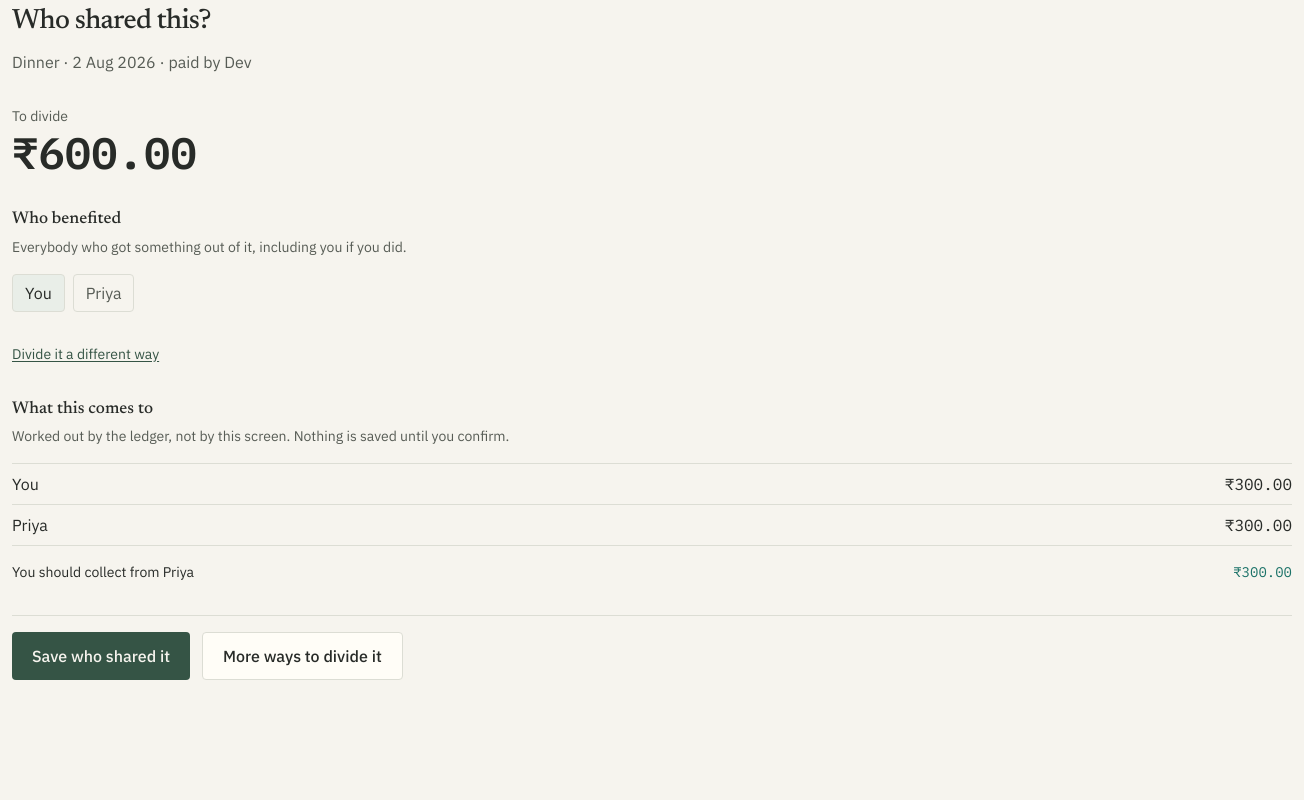
Test: saying who shared an expense › keeps the advanced methods behind a disclosure
The image size is (1304, 800).
Expected: the heading "Who shared this?" is shown, top-left (12, 7), bottom-right (211, 35)
Expected: the text "Exact amounts" is not shown
Click the button "Divide it a different way": (86, 354) top-left (12, 344), bottom-right (159, 364)
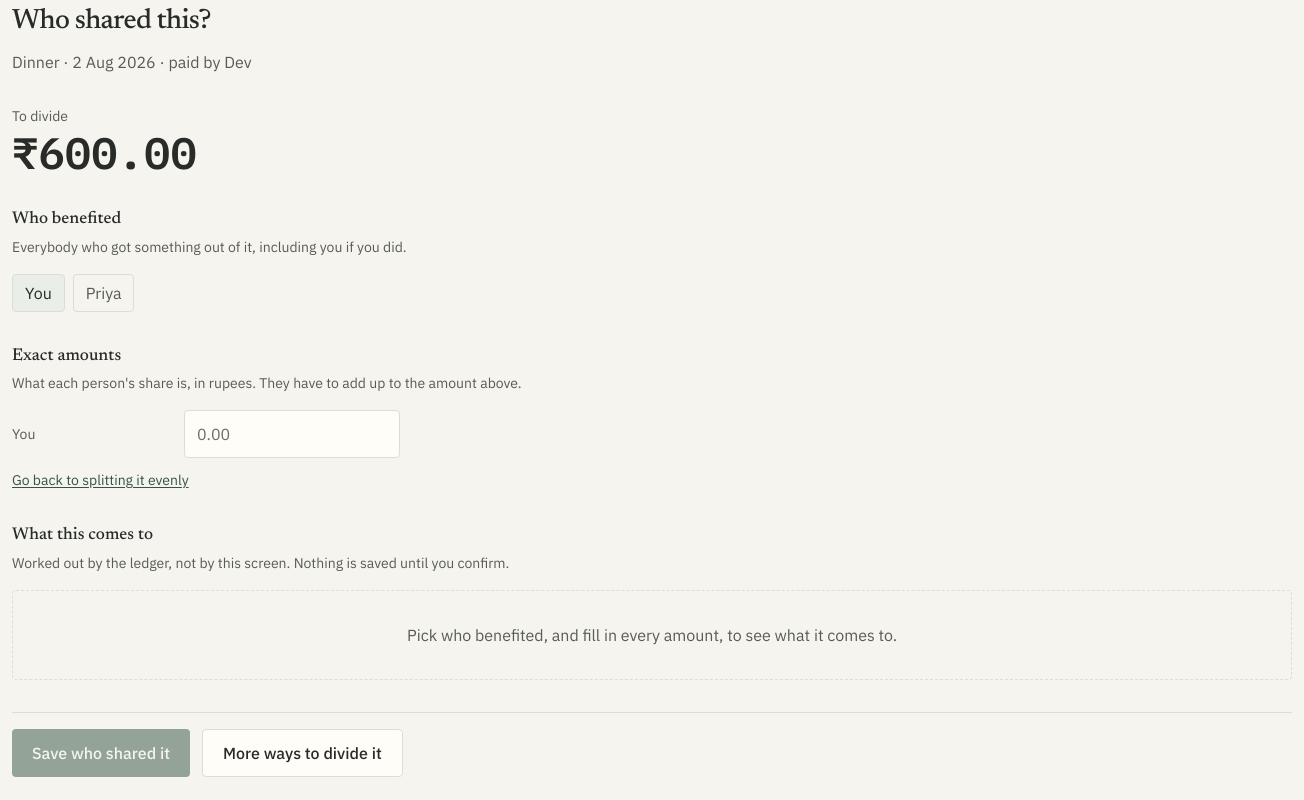
Expected: the heading "Exact amounts" is shown, top-left (12, 348), bottom-right (121, 364)
